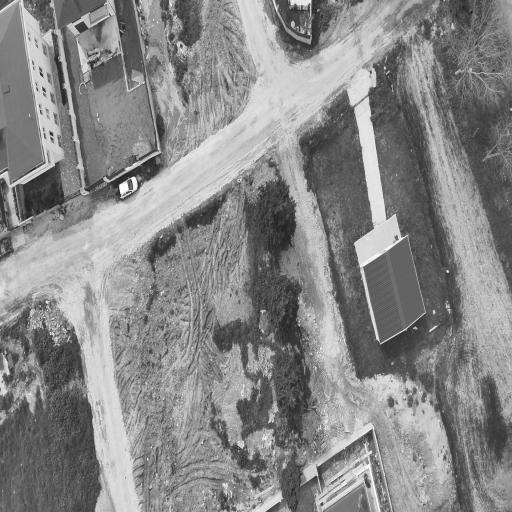car: (119, 176, 138, 197)
